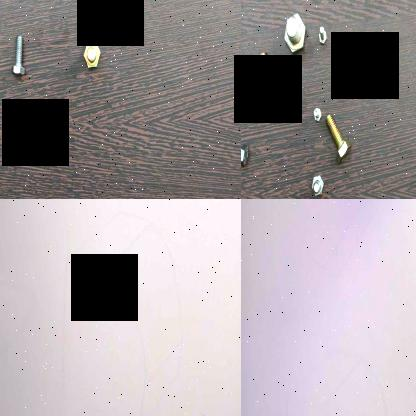Bolts: (254, 47, 284, 114), (324, 112, 352, 166), (282, 9, 310, 60), (8, 31, 28, 80), (82, 34, 102, 72), (309, 170, 325, 199), (241, 135, 253, 167), (315, 25, 330, 48)
